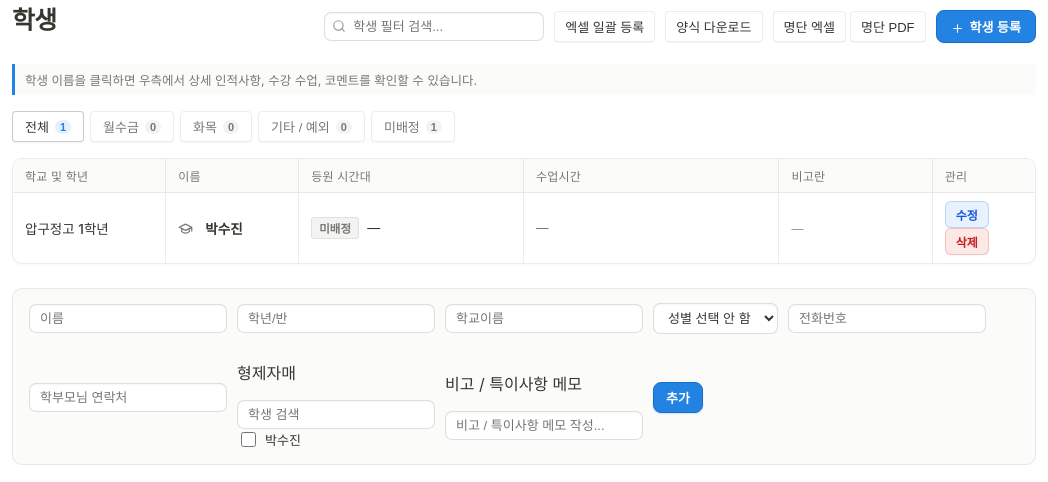
Scenario: StudentsPage › loads student data into form when clicking 수정
Click the button "수정". click: (967, 214)
box: [945,201,989,228]
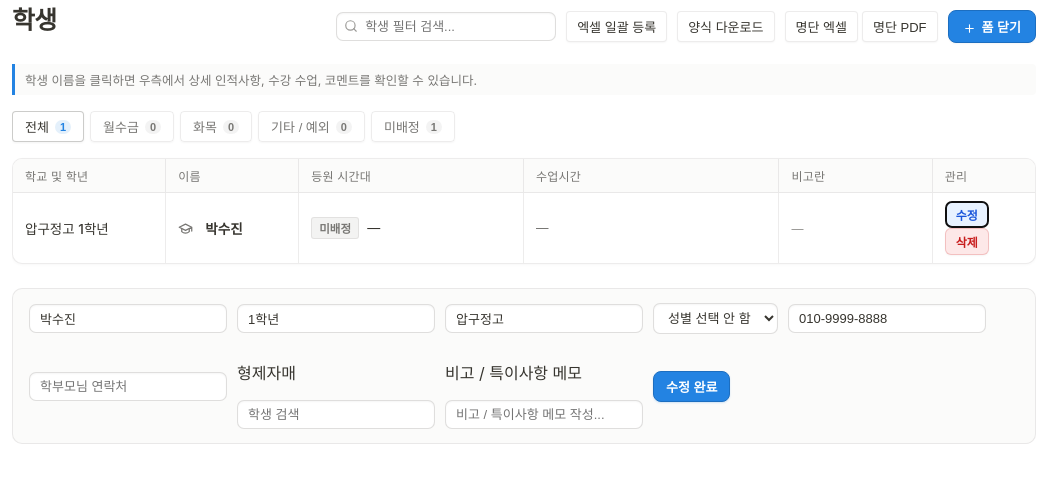
Expected: the 1st field with placeholder "이름" holds "박수진", [29,304,227,333]
Expected: the 3rd field with placeholder "학교이름" holds "압구정고", [445,304,643,333]
Expected: the 2nd field with placeholder "학년/반" holds "1학년", [237,304,435,333]
